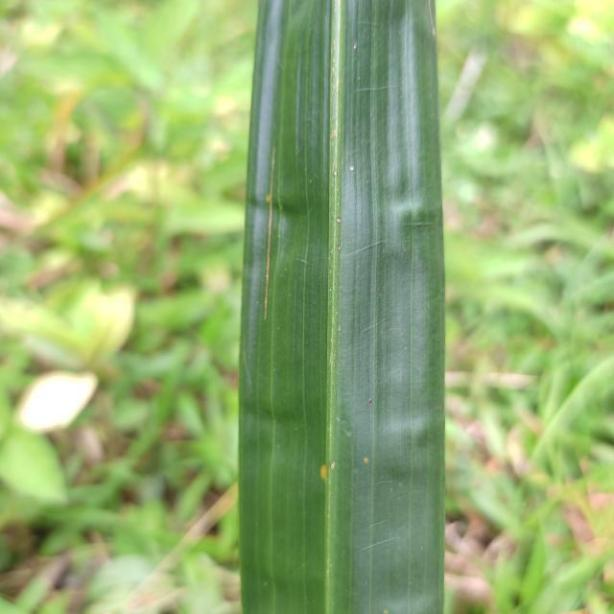Boron: (235, 0, 449, 614)
